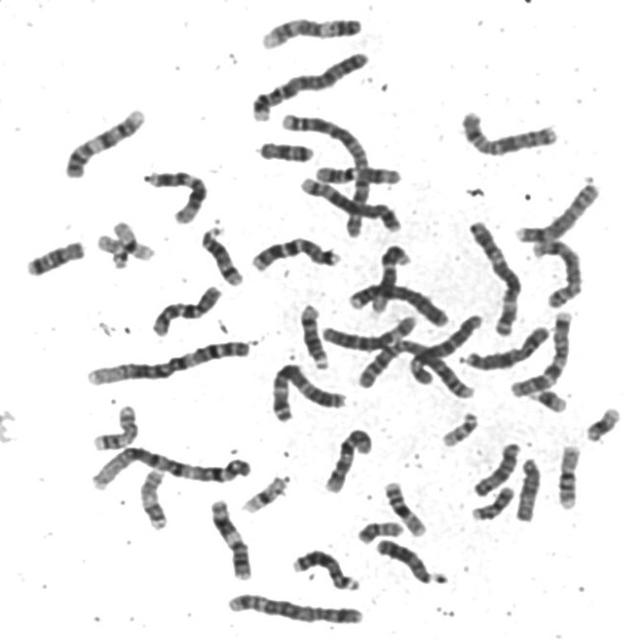A1: (80, 332, 253, 389), (83, 440, 253, 493)
A2: (276, 105, 375, 238), (352, 333, 478, 401)
A3: (463, 214, 524, 339), (265, 356, 350, 424)
B4: (246, 44, 371, 124), (342, 276, 450, 328)
B5: (295, 171, 404, 234), (221, 586, 366, 627)
C10: (145, 279, 224, 339), (319, 422, 375, 495)
C11: (205, 493, 253, 582), (309, 159, 402, 186)
C12: (138, 164, 210, 225), (366, 239, 414, 315)
C6: (403, 307, 486, 386), (316, 309, 420, 352)
C7: (504, 304, 576, 399), (245, 230, 343, 272)
C8: (509, 175, 602, 245), (526, 233, 585, 310)
C9: (59, 101, 148, 180), (256, 10, 366, 50)
D13: (288, 543, 362, 593), (371, 533, 438, 586)
D14: (195, 220, 245, 288), (293, 298, 331, 371)
D15: (468, 437, 522, 499), (509, 451, 544, 524)
E16: (379, 475, 430, 538), (552, 439, 584, 512)
E17: (87, 399, 139, 453), (134, 462, 170, 532)
E18: (19, 234, 86, 278), (252, 135, 317, 164)
F19: (237, 470, 291, 514), (107, 215, 157, 262)
F20: (467, 480, 516, 522), (352, 515, 405, 545)
G21: (580, 401, 622, 444), (525, 383, 570, 414)
G22: (436, 406, 481, 448), (90, 228, 130, 270)
X: (454, 103, 561, 158), (458, 320, 553, 372)
